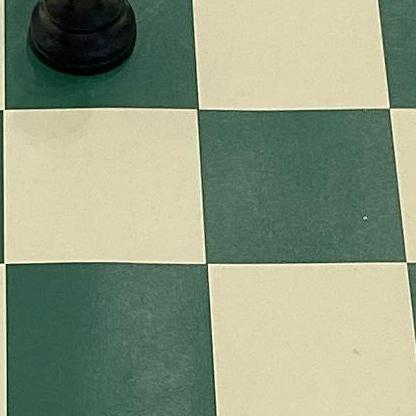black-rook: (22, 0, 136, 77)
